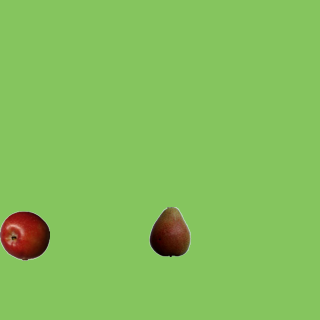Apple Braeburn: (0, 210, 49, 260)
Pear Forelle: (144, 206, 194, 256)
